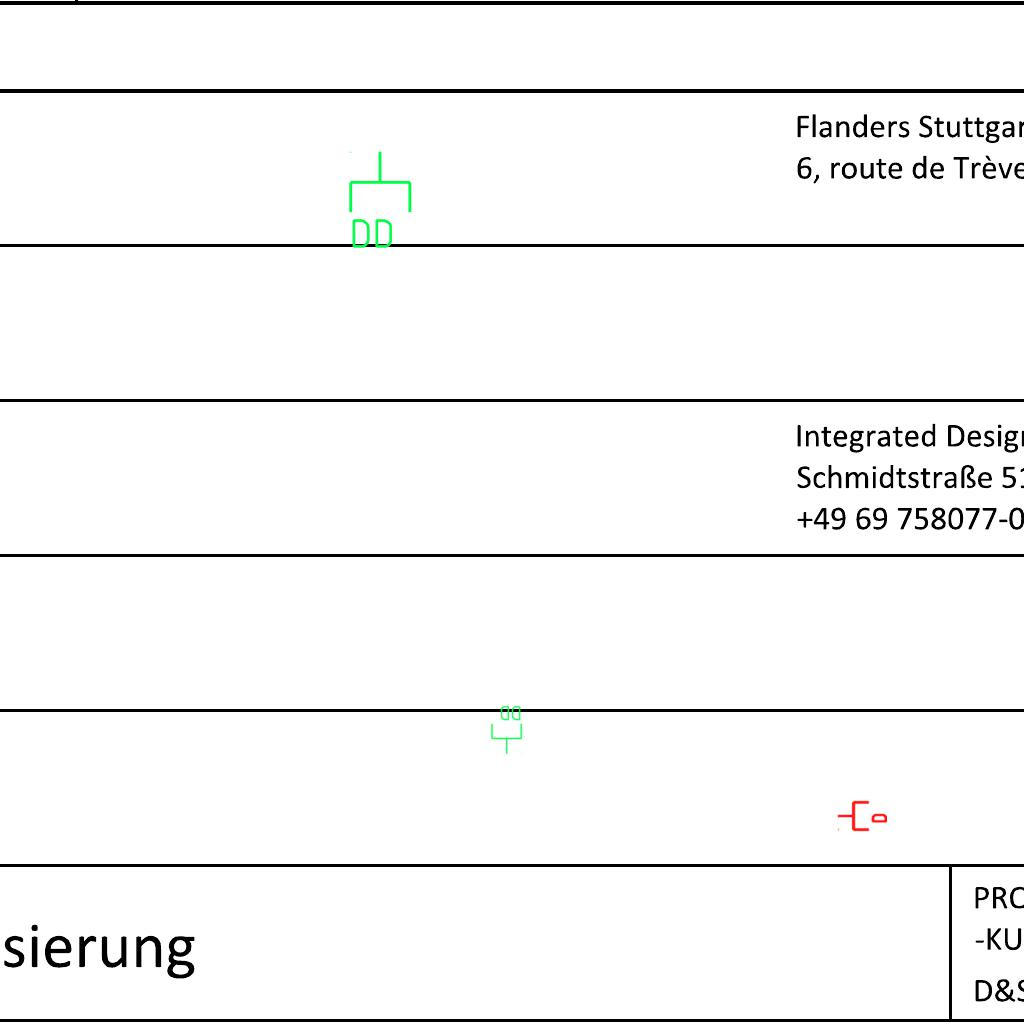Datenanschluss_einfach: (837, 799, 887, 833)
Datenanschluss_zweifach: (345, 149, 414, 252), (490, 704, 524, 755)
